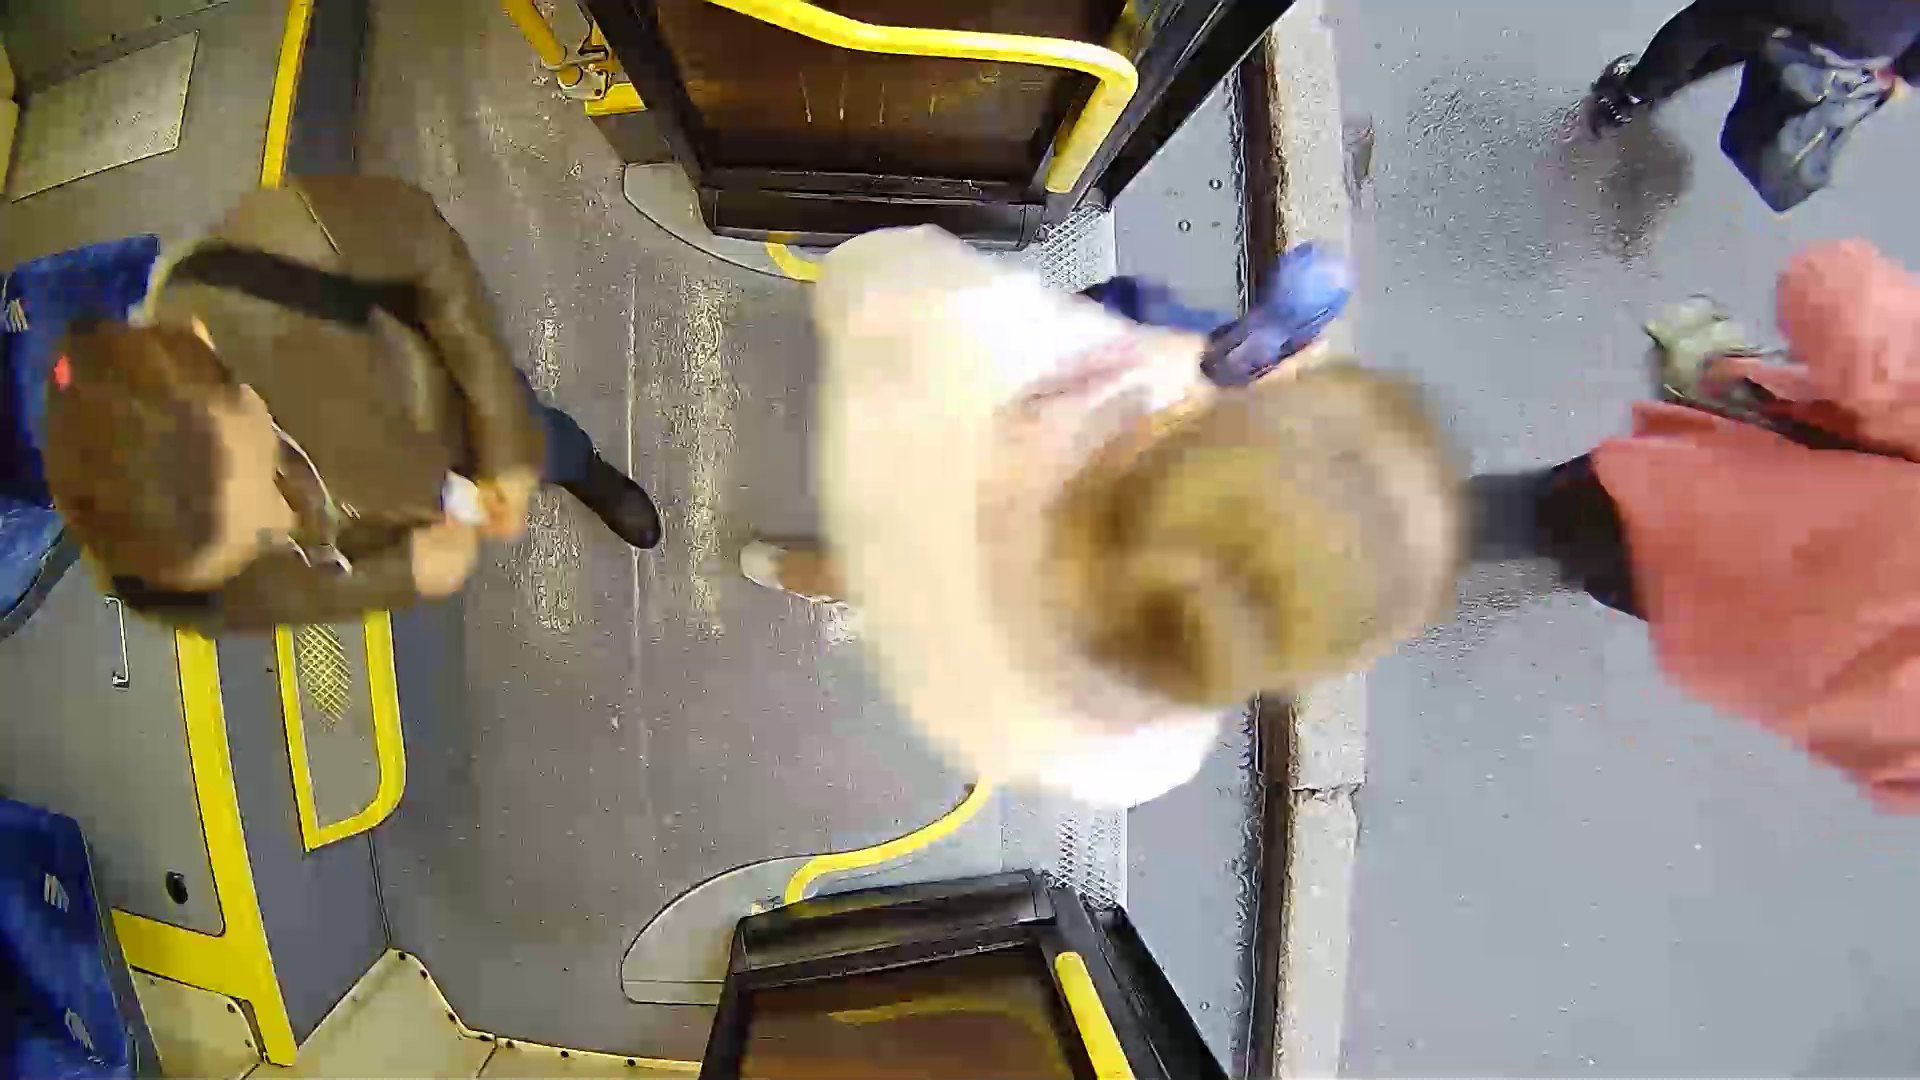person: (683, 118, 1536, 804), (71, 155, 770, 668)
